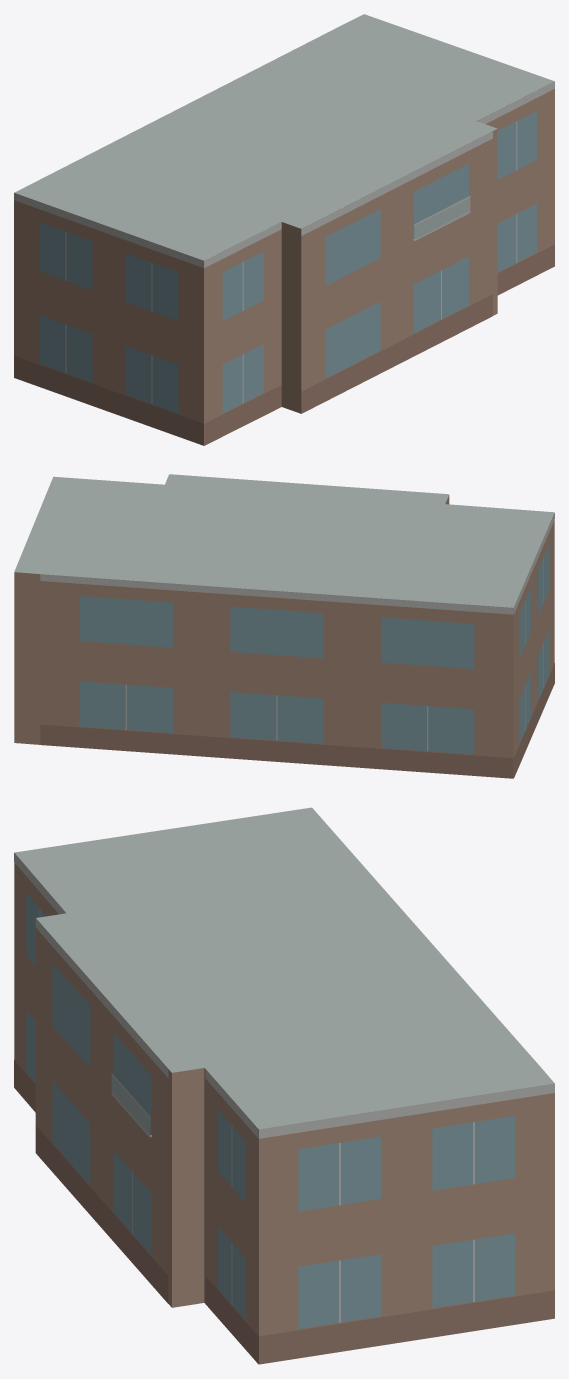
File: survey-upis-32702162.glb
The picture shows the model from 3 angles, top to bottom: view 1: azimuth 30°, elevation 25°; view 2: azimuth 150°, elevation 25°; view 3: azimuth 270°, elevation 25°; orthographic projection. The views are drawn at different scales.
Visible parts, largest first — view 1: survey-upis-32702162.tmp; view 2: survey-upis-32702162.tmp; view 3: survey-upis-32702162.tmp.
Boxes of the visible parts, x1,y1,x2,y2 form: survey-upis-32702162.tmp: [14, 14, 554, 445]; survey-upis-32702162.tmp: [14, 474, 554, 778]; survey-upis-32702162.tmp: [14, 807, 554, 1364].
Size of the model in its own units: 17.94 by 6.1 by 12.73.
